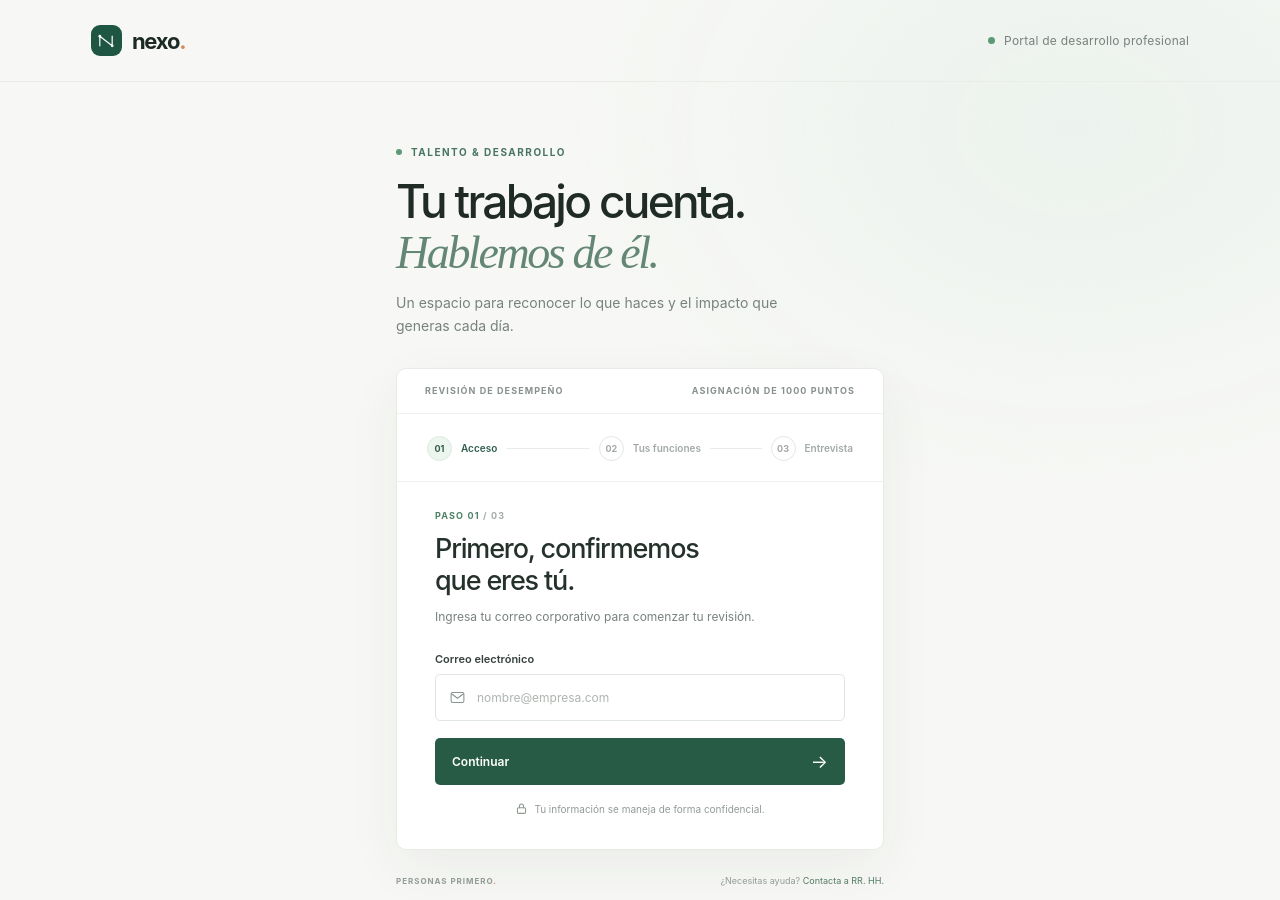
flujo de revisión de desempeño › no permite continuar con un correo que no está en la lista
In the field labelled "Correo electrónico": (654, 698) [477,675,831,720], type "alguien@empresa-demo.example"
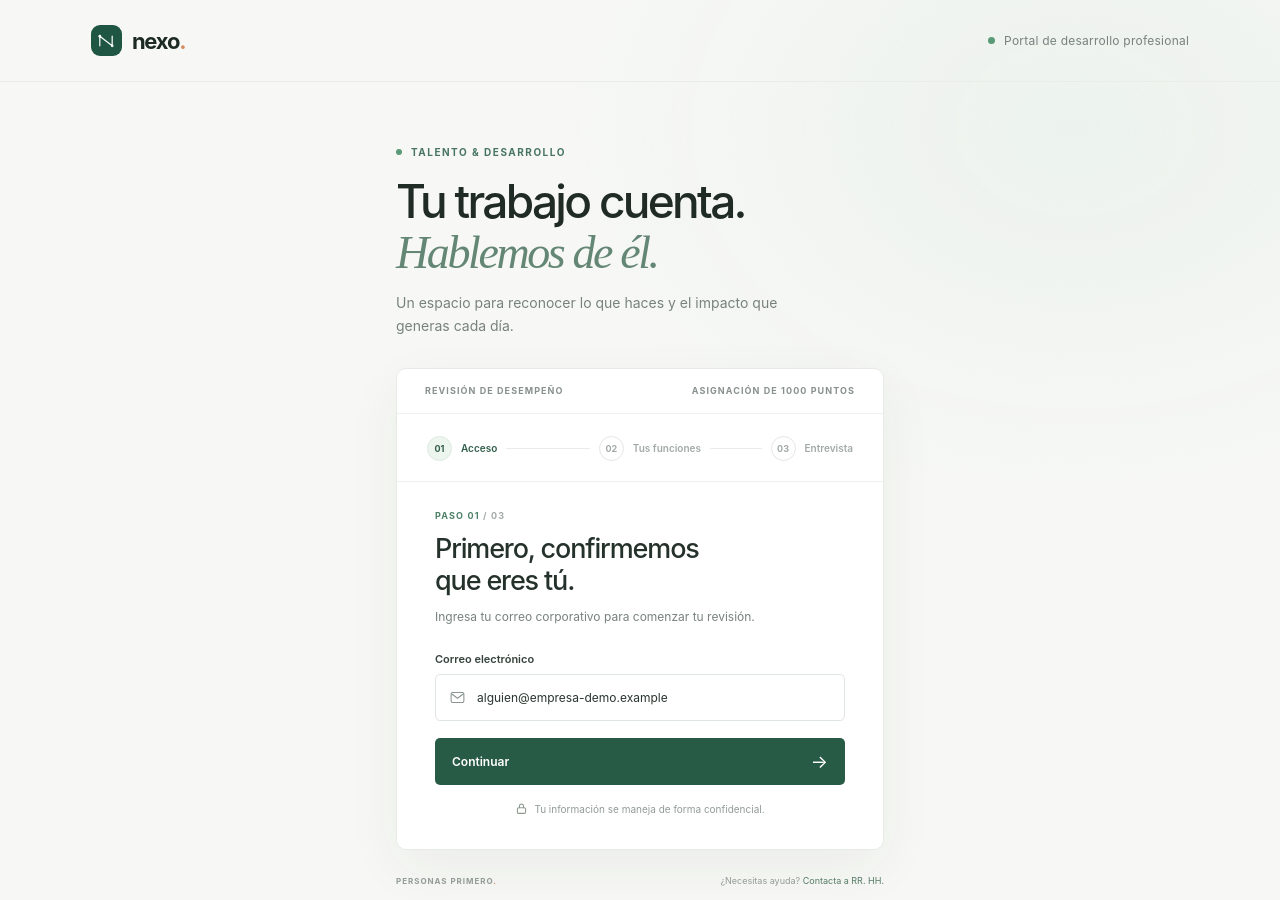
Click the button "Continuar →": (481, 762) [435,738,845,785]
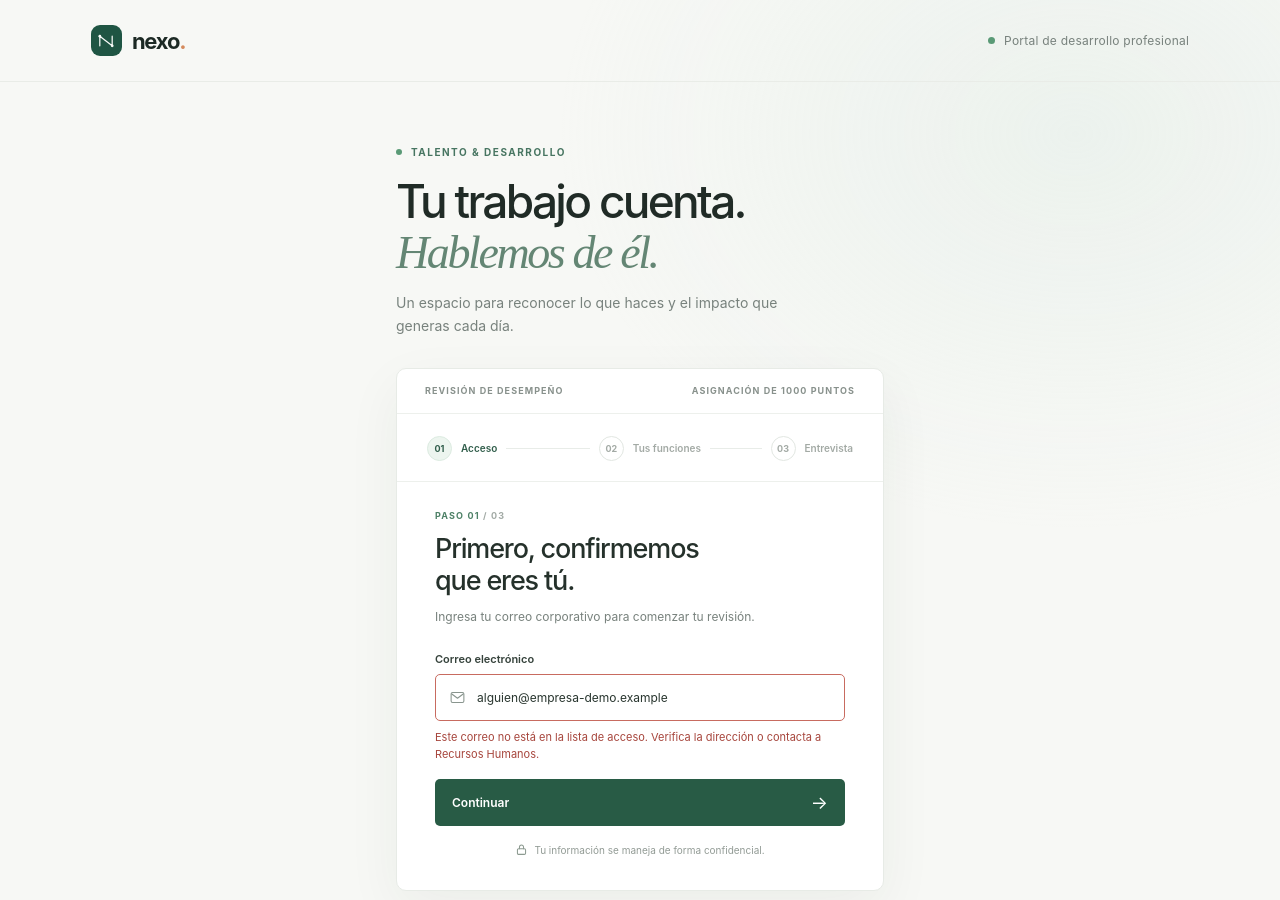
Result: the message shows "Este correo no está en la lista de acceso" at [435,730,821,761]
